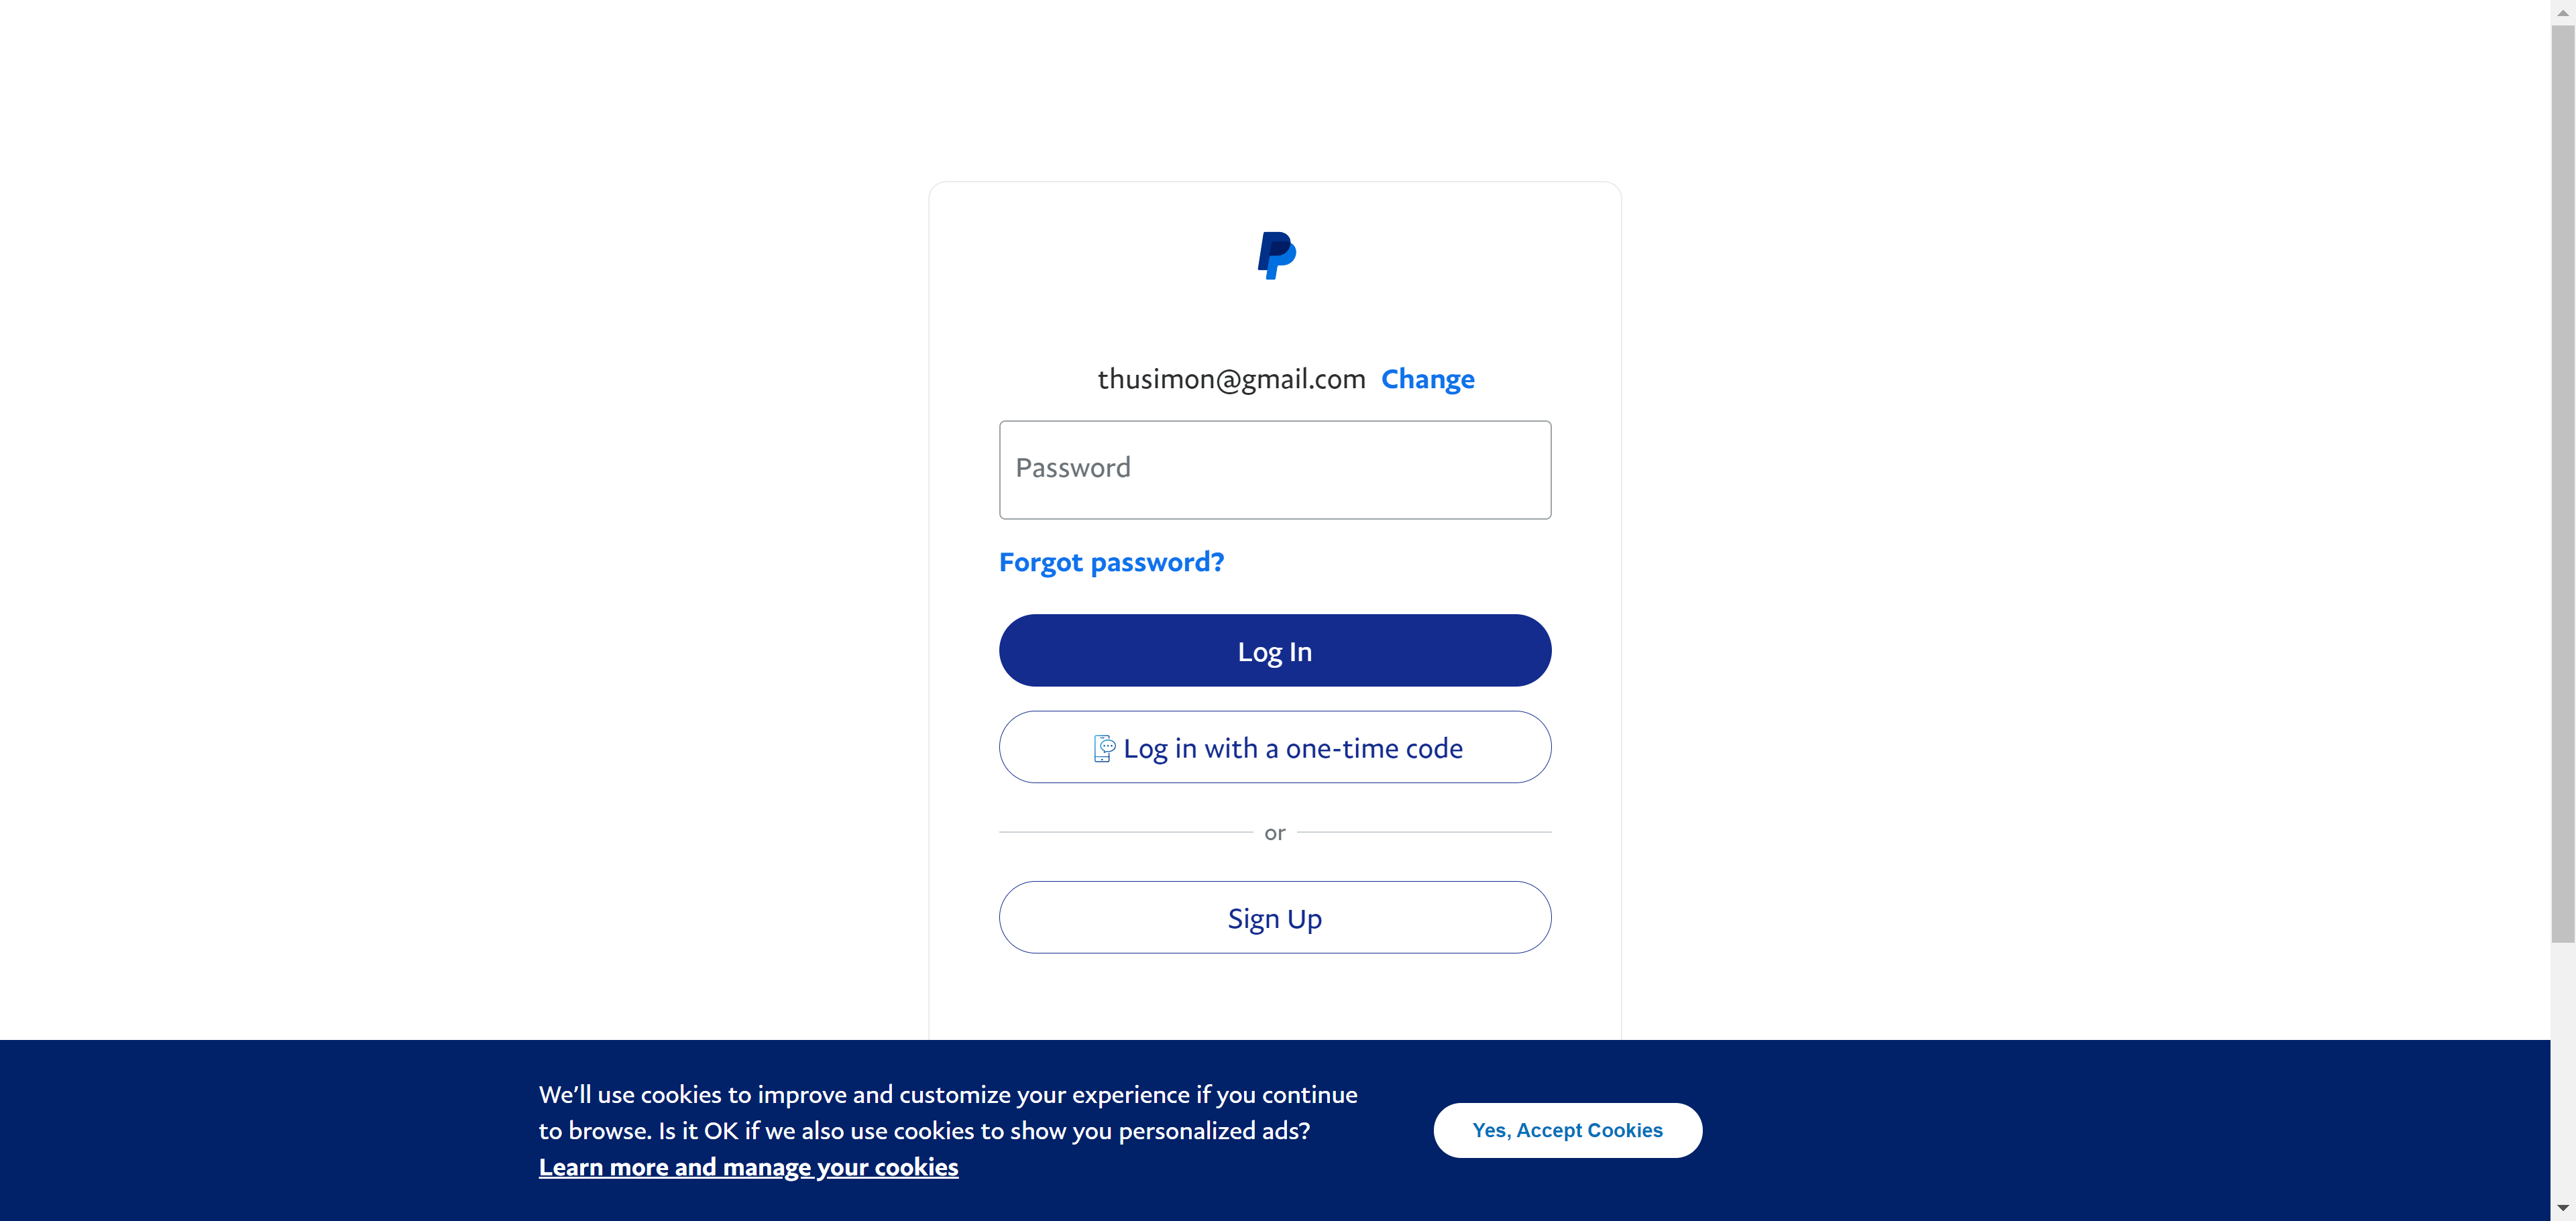login_button: (999, 615, 1552, 687)
login_form: (992, 414, 1561, 692)
